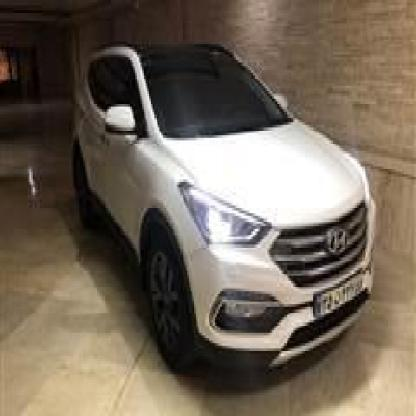Car: (69, 31, 383, 382)
